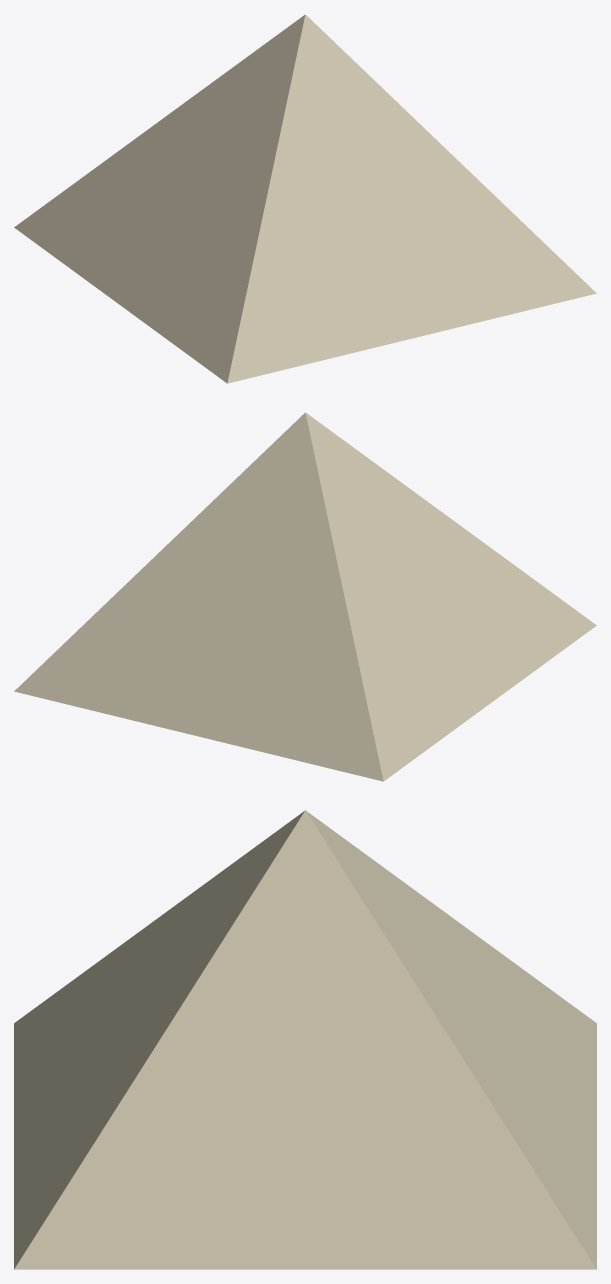
3 renders of one model, top to bottom at view 1: azimuth 30°, elevation 25°; view 2: azimuth 150°, elevation 25°; view 3: azimuth 270°, elevation 25°, orthographic. The views are drawn at different scales.
Parts seen in each view (by area): view 1: geometry_0; view 2: geometry_0; view 3: geometry_0.
Boxes of the visible parts, box(x1,y1,x2,y2) form: geometry_0: box(14, 14, 596, 383); geometry_0: box(14, 412, 596, 781); geometry_0: box(14, 810, 596, 1269).
Size of the model in its own units: 230 by 147 by 230.
